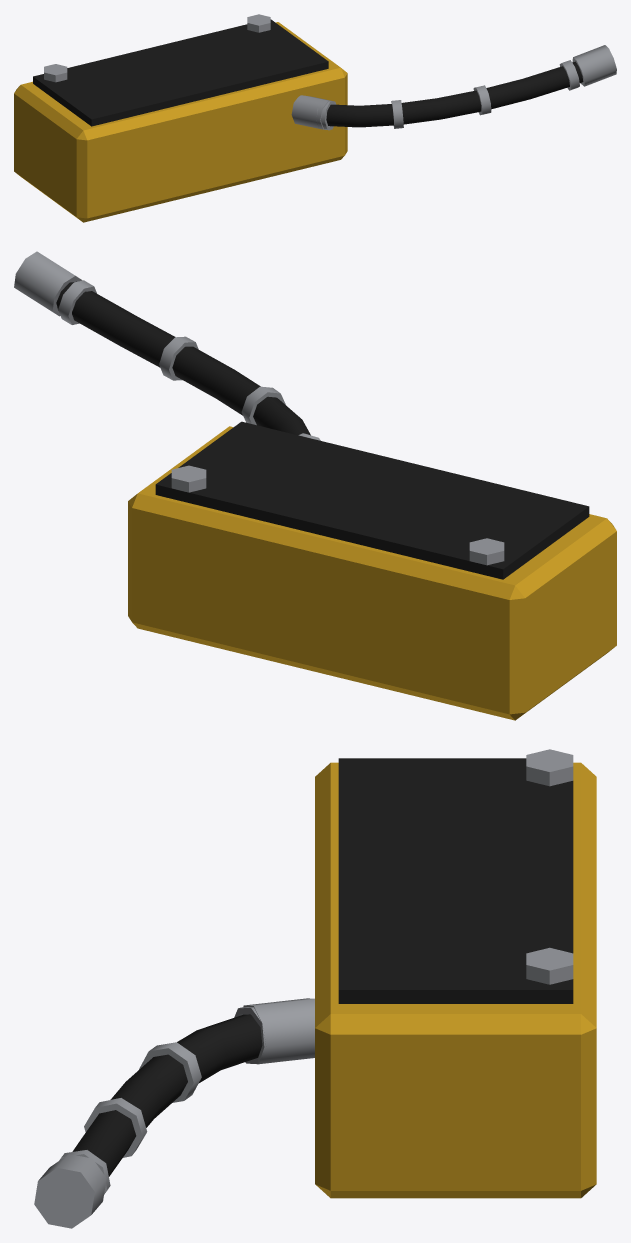
3 views of the same model, one above another, from view 1: azimuth 30°, elevation 25°; view 2: azimuth 150°, elevation 25°; view 3: azimuth 270°, elevation 25° (orthographic). The views are drawn at different scales.
Parts seen in each view (by area): view 1: dr5_rx; view 2: dr5_rx; view 3: dr5_rx.
Boxes of the visible parts, box(x1,y1,x2,y2) form: dr5_rx: box(14, 14, 616, 222); dr5_rx: box(14, 251, 616, 720); dr5_rx: box(34, 749, 596, 1228).
Size of the model in its own units: 1.39 by 0.3179 by 0.7188.
